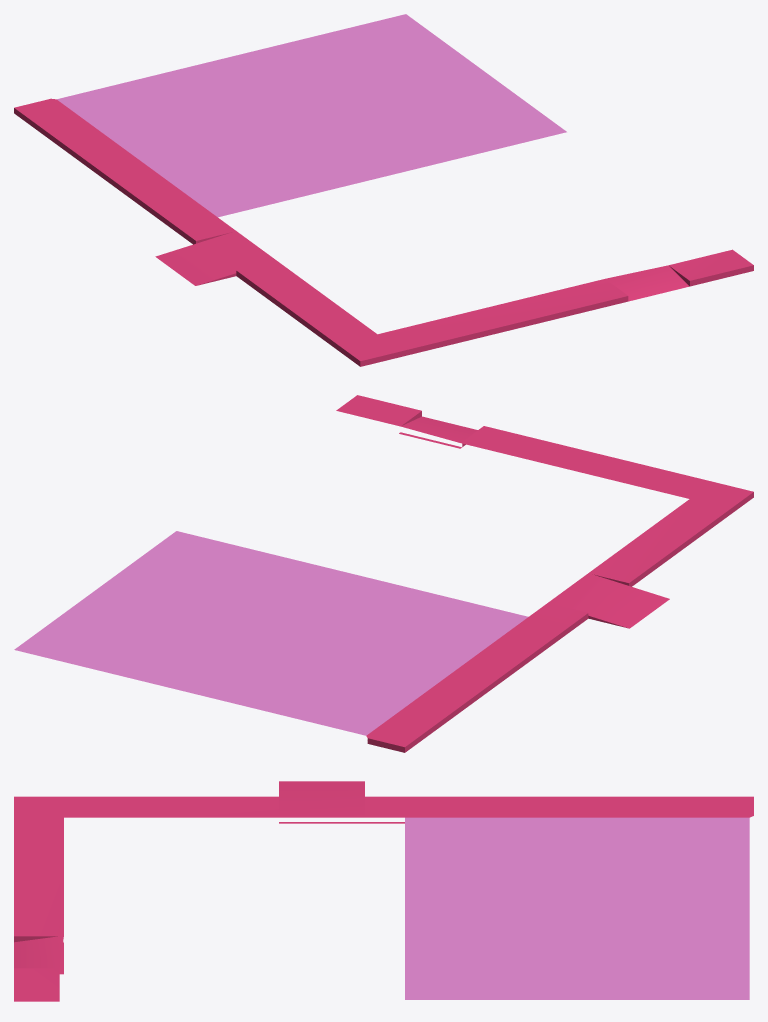
Rendered from outerArea.fbx.
The picture shows the model from 3 angles, top to bottom: view 1: azimuth 30°, elevation 25°; view 2: azimuth 150°, elevation 25°; view 3: azimuth 270°, elevation 25°; orthographic projection. The views are drawn at different scales.
Parts seen in each view (by area): view 1: outerArea; view 2: outerArea; view 3: outerArea.
Boxes of the visible parts, x1=… form: outerArea: x1=14, y1=14, x2=753, y2=366; outerArea: x1=14, y1=395, x2=753, y2=752; outerArea: x1=14, y1=781, x2=753, y2=1001.
Size of the model in its own units: 1610 by 20 by 2223.
